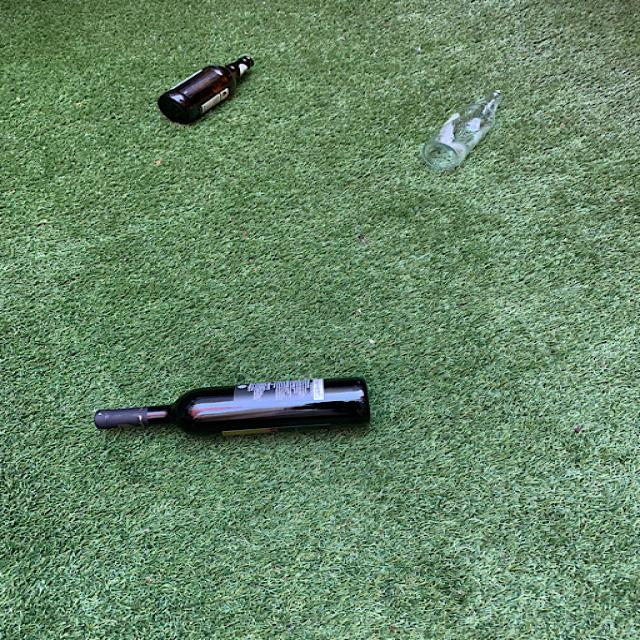litter: (31, 360, 436, 478), (408, 66, 532, 200), (128, 36, 278, 134)
